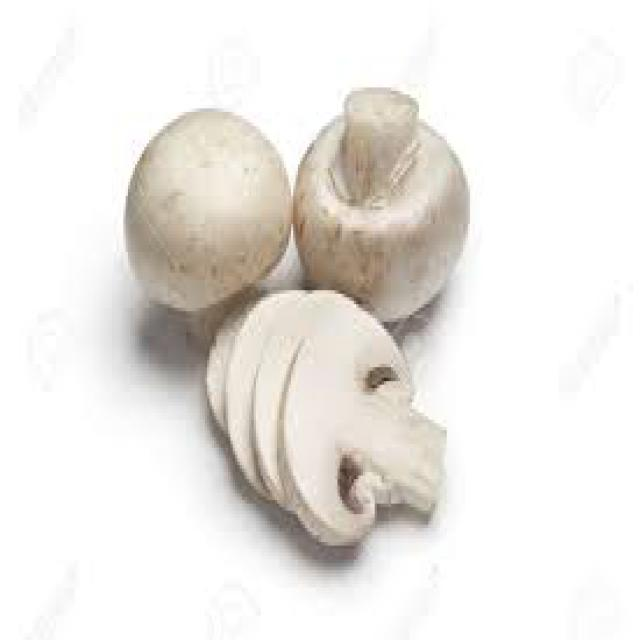Agaricus bisporus: (202, 291, 457, 547), (131, 105, 290, 342), (300, 92, 471, 310)
